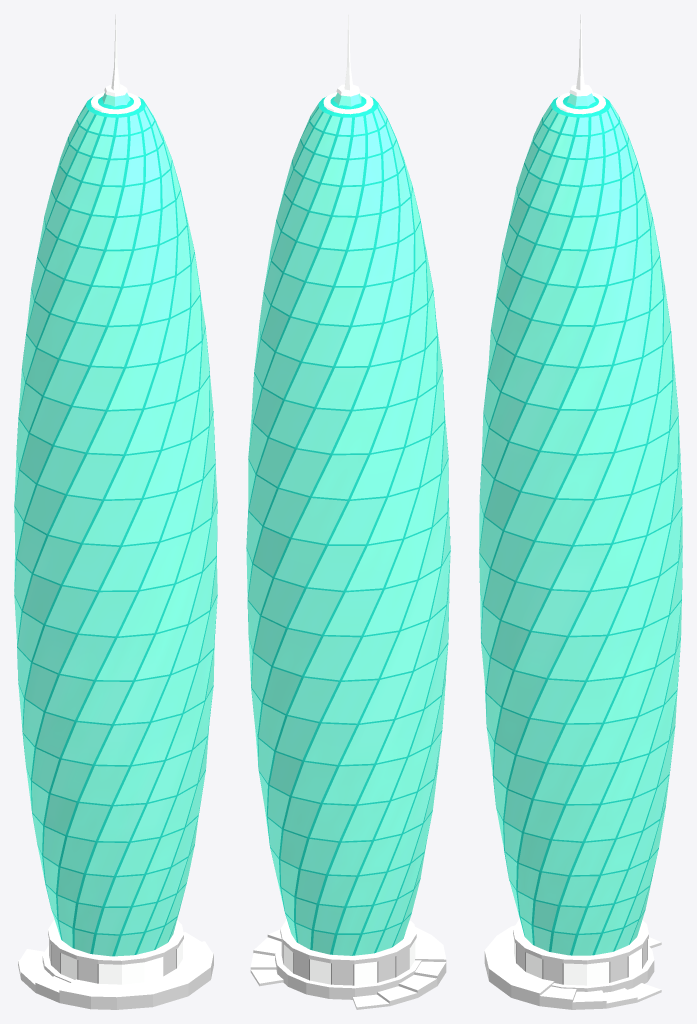
The model's file is skyscraper.004.glb.
3 renders of one model, left to right at view 1: azimuth 30°, elevation 25°; view 2: azimuth 150°, elevation 25°; view 3: azimuth 270°, elevation 25°, orthographic.
Parts seen in each view (by area): view 1: skyscraper.004(Clone); view 2: skyscraper.004(Clone); view 3: skyscraper.004(Clone).
Boxes of the visible parts, x1,y1,x2,y2 form: skyscraper.004(Clone): [14, 14, 217, 1009]; skyscraper.004(Clone): [246, 14, 450, 1009]; skyscraper.004(Clone): [479, 14, 682, 1009].
Bounding box in the file's own units: 13.81 × 71.44 × 13.81.
1 material, 1 textured.
